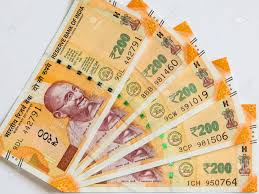twoHundred: (31, 9, 131, 183)
